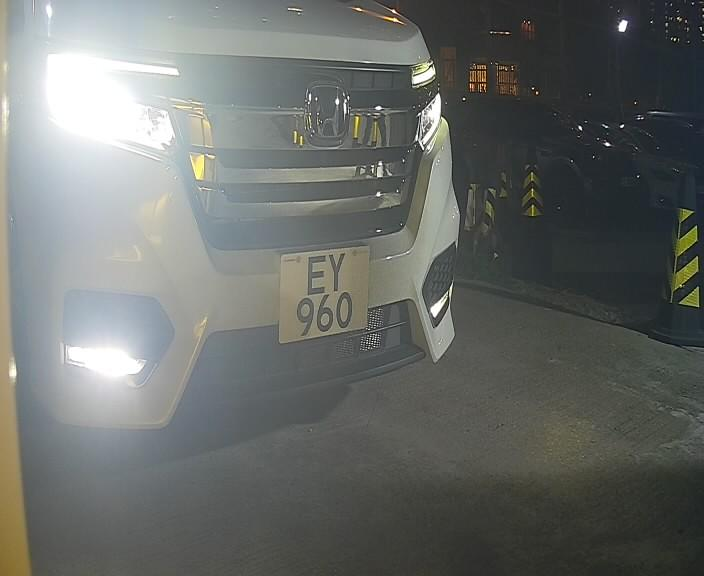License Plate: (274, 235, 381, 355)
